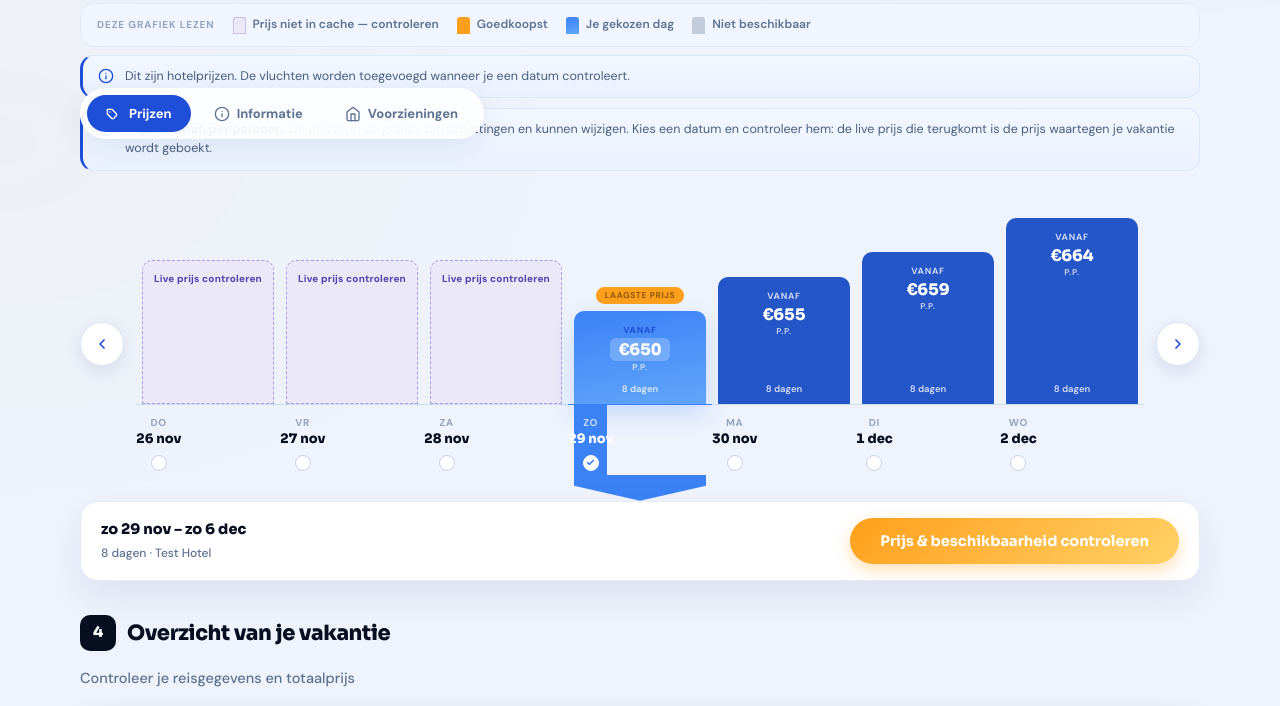
Test: the card and the room list name the same rate › quotes a rate the meal filter still shows, not a cheaper one it hid
(page scrolled)
Click the button "Laagste prijs vanaf €650 p.p. 8 dagen zo 29 nov" at (640, 347), box left=568, top=193, right=712, bottom=501
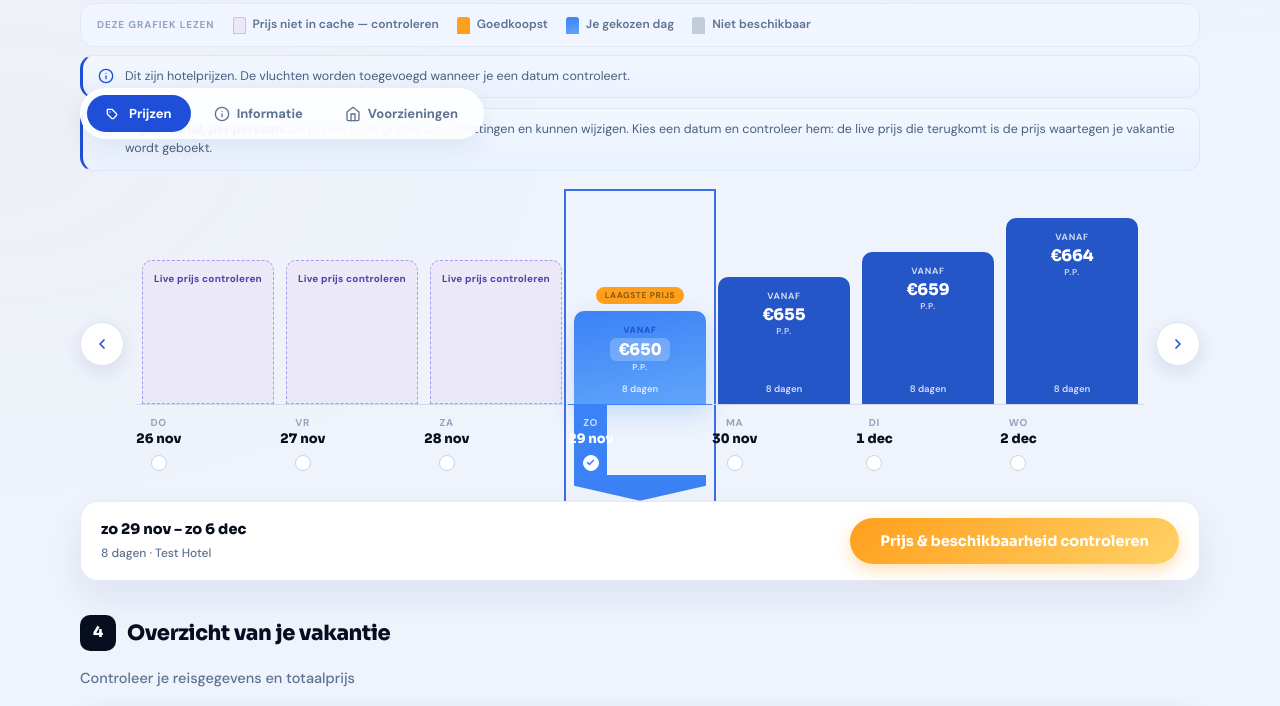
Click the button "Prijs & beschikbaarheid controleren" at (1015, 541), box left=850, top=518, right=1179, bottom=564
(page scrolled)
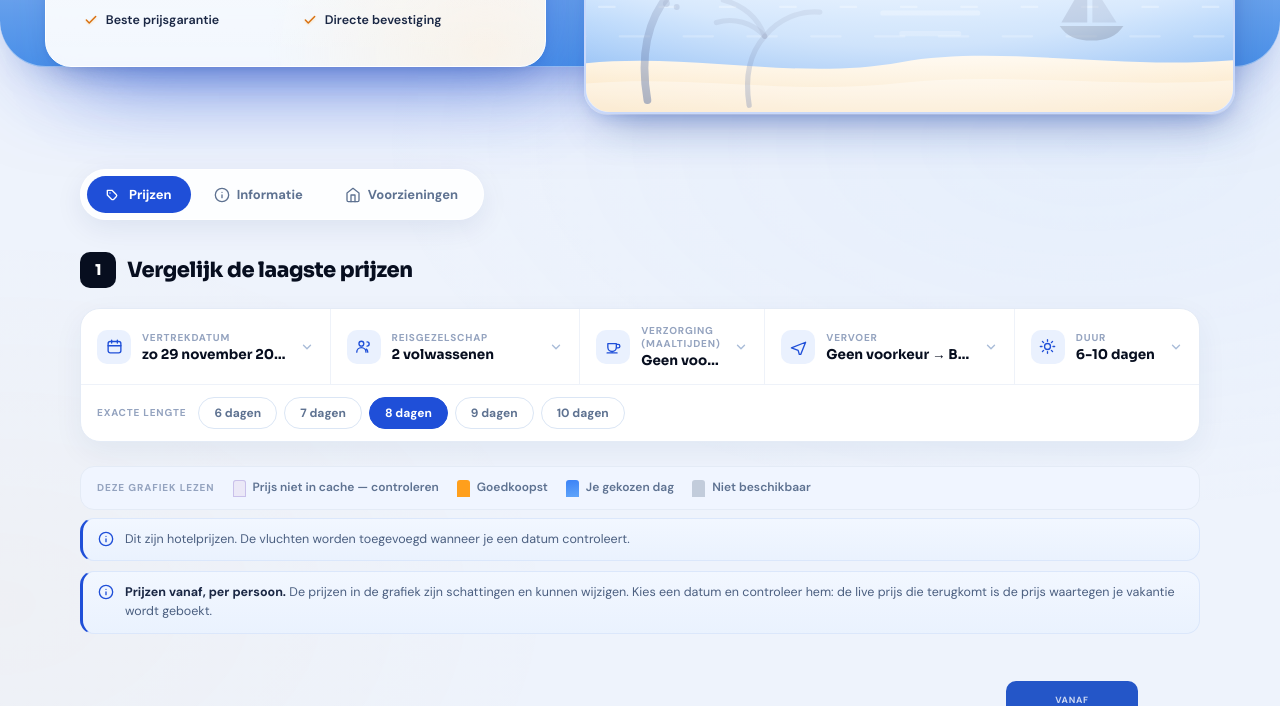
Click the button "Verzorging (maaltijden) Geen voorkeur" at (672, 347), box left=580, top=309, right=764, bottom=384
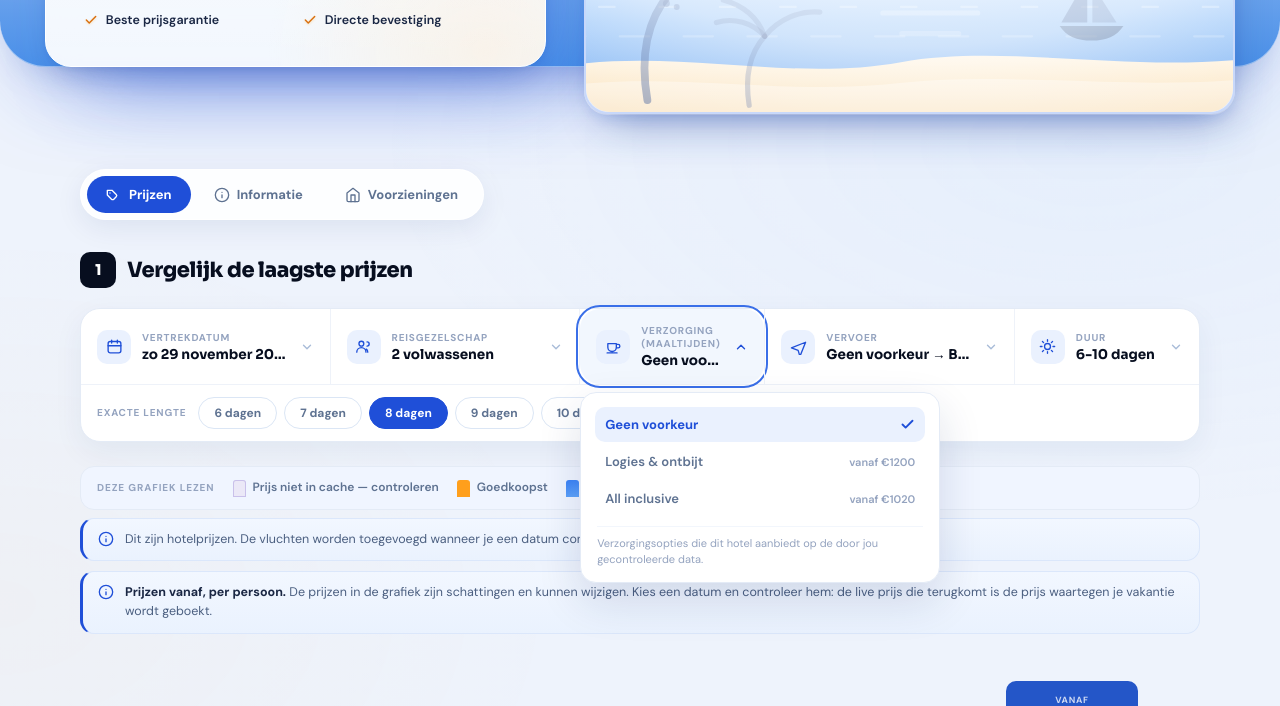
Click the button "Logies & ontbijt vanaf €1200" at (654, 462), box left=595, top=444, right=925, bottom=479
(page scrolled)
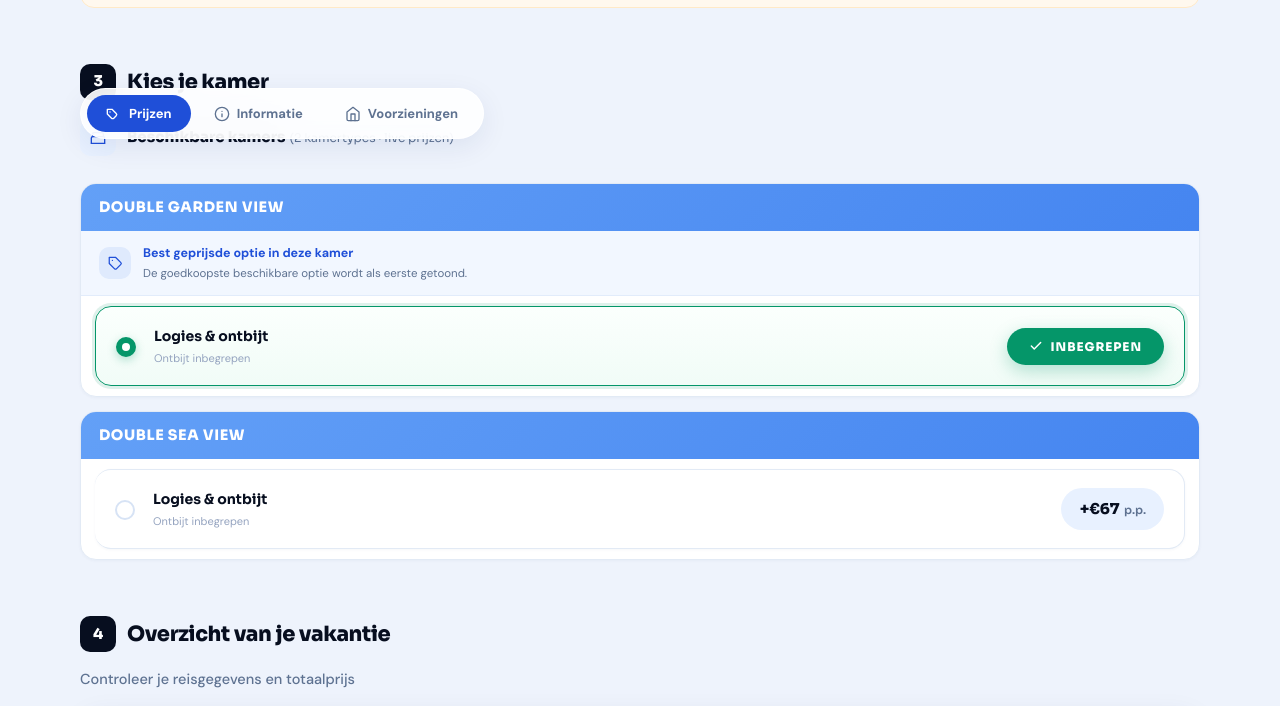
Now the element with class "selected" shows "Logies & ontbijt", box left=154, top=327, right=268, bottom=345
Now the element with class "selected" shows "inbegrepen", box left=1006, top=328, right=1164, bottom=365
Now the element with class "selected" is shown, box left=95, top=306, right=1185, bottom=386
